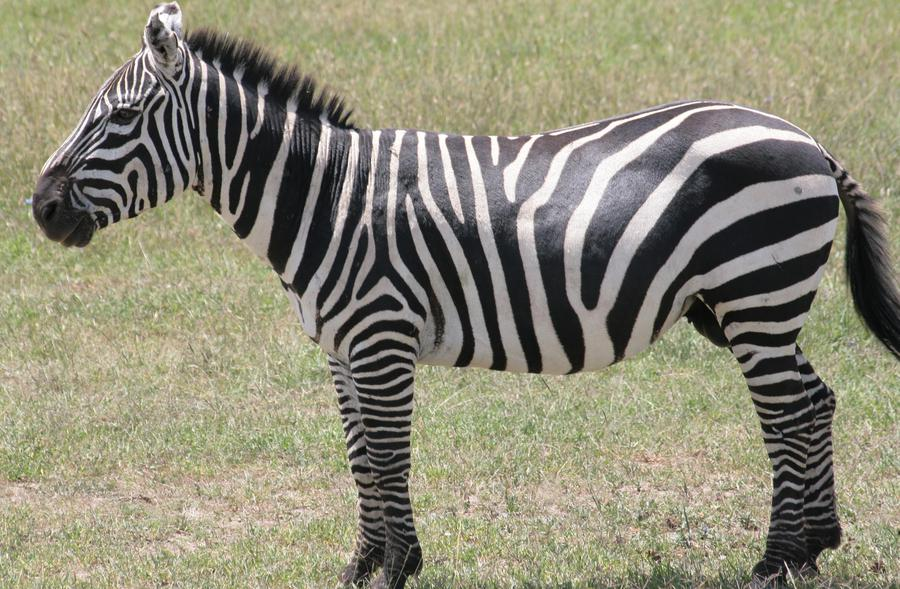zebra_plains: (321, 113, 837, 322)
